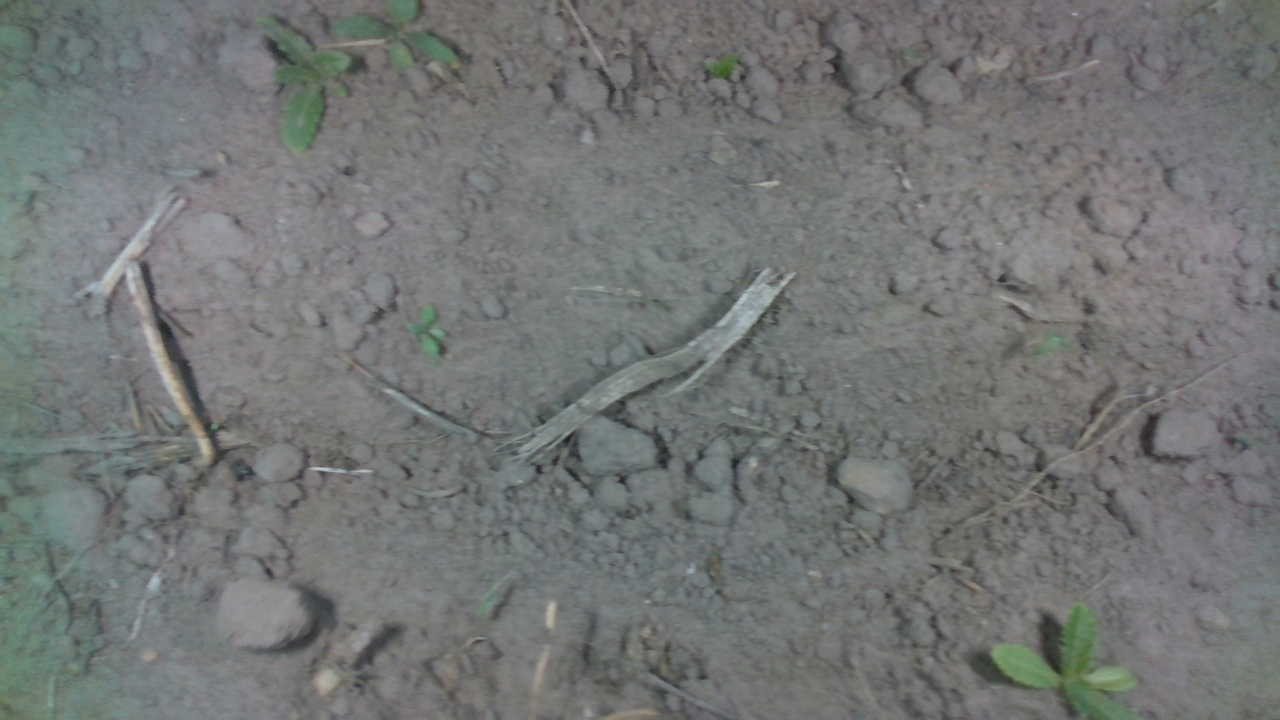weed: (402, 302, 450, 357)
